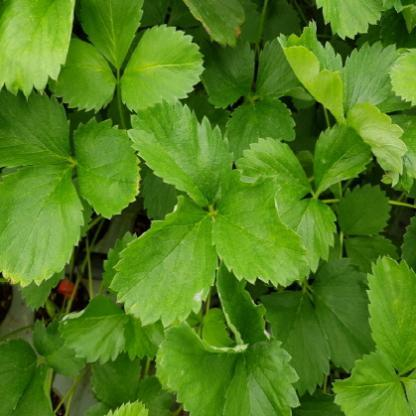Strawberry_Powdery_Mildew_Leaf: (108, 194, 221, 329)
